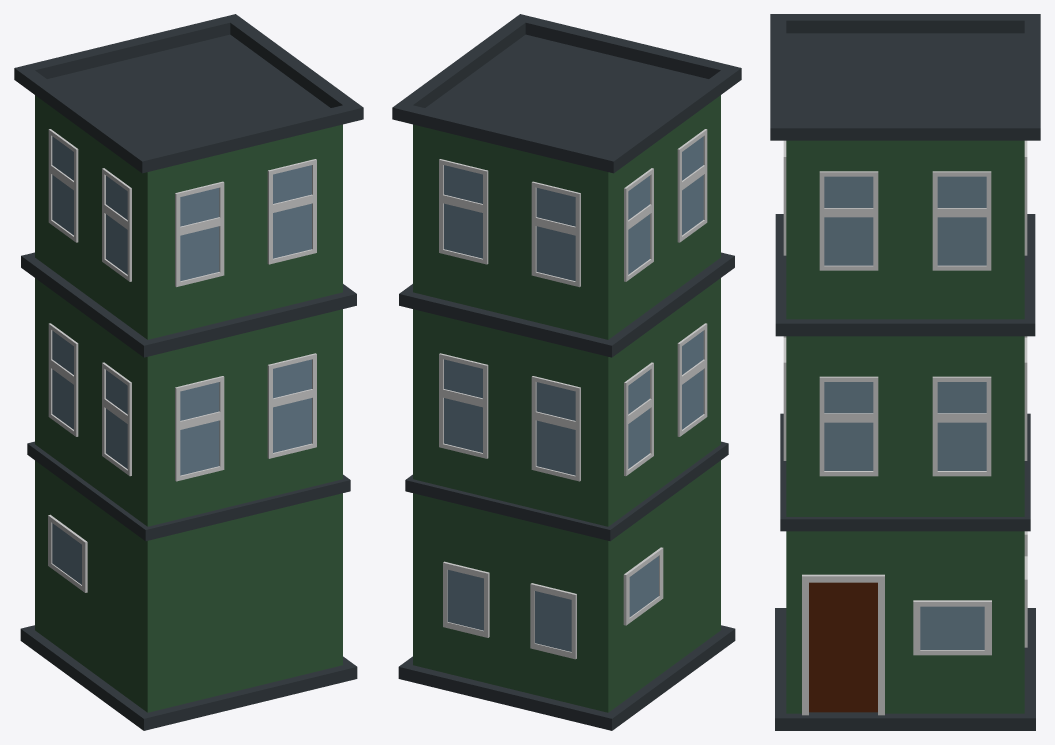
The model's file is tall green.fbx.
3 renders of one model, left to right at view 1: azimuth 30°, elevation 25°; view 2: azimuth 150°, elevation 25°; view 3: azimuth 270°, elevation 25°, orthographic. The views are drawn at different scales.
Parts seen in each view (by area): view 1: tall 1x1 green; view 2: tall 1x1 green; view 3: tall 1x1 green.
Boxes of the visible parts, <box> form: tall 1x1 green: <box>14,14,363,730</box>; tall 1x1 green: <box>392,14,741,730</box>; tall 1x1 green: <box>770,14,1040,730</box>.
Bounding box in the file's own units: 3.82 × 9.44 × 3.82.
